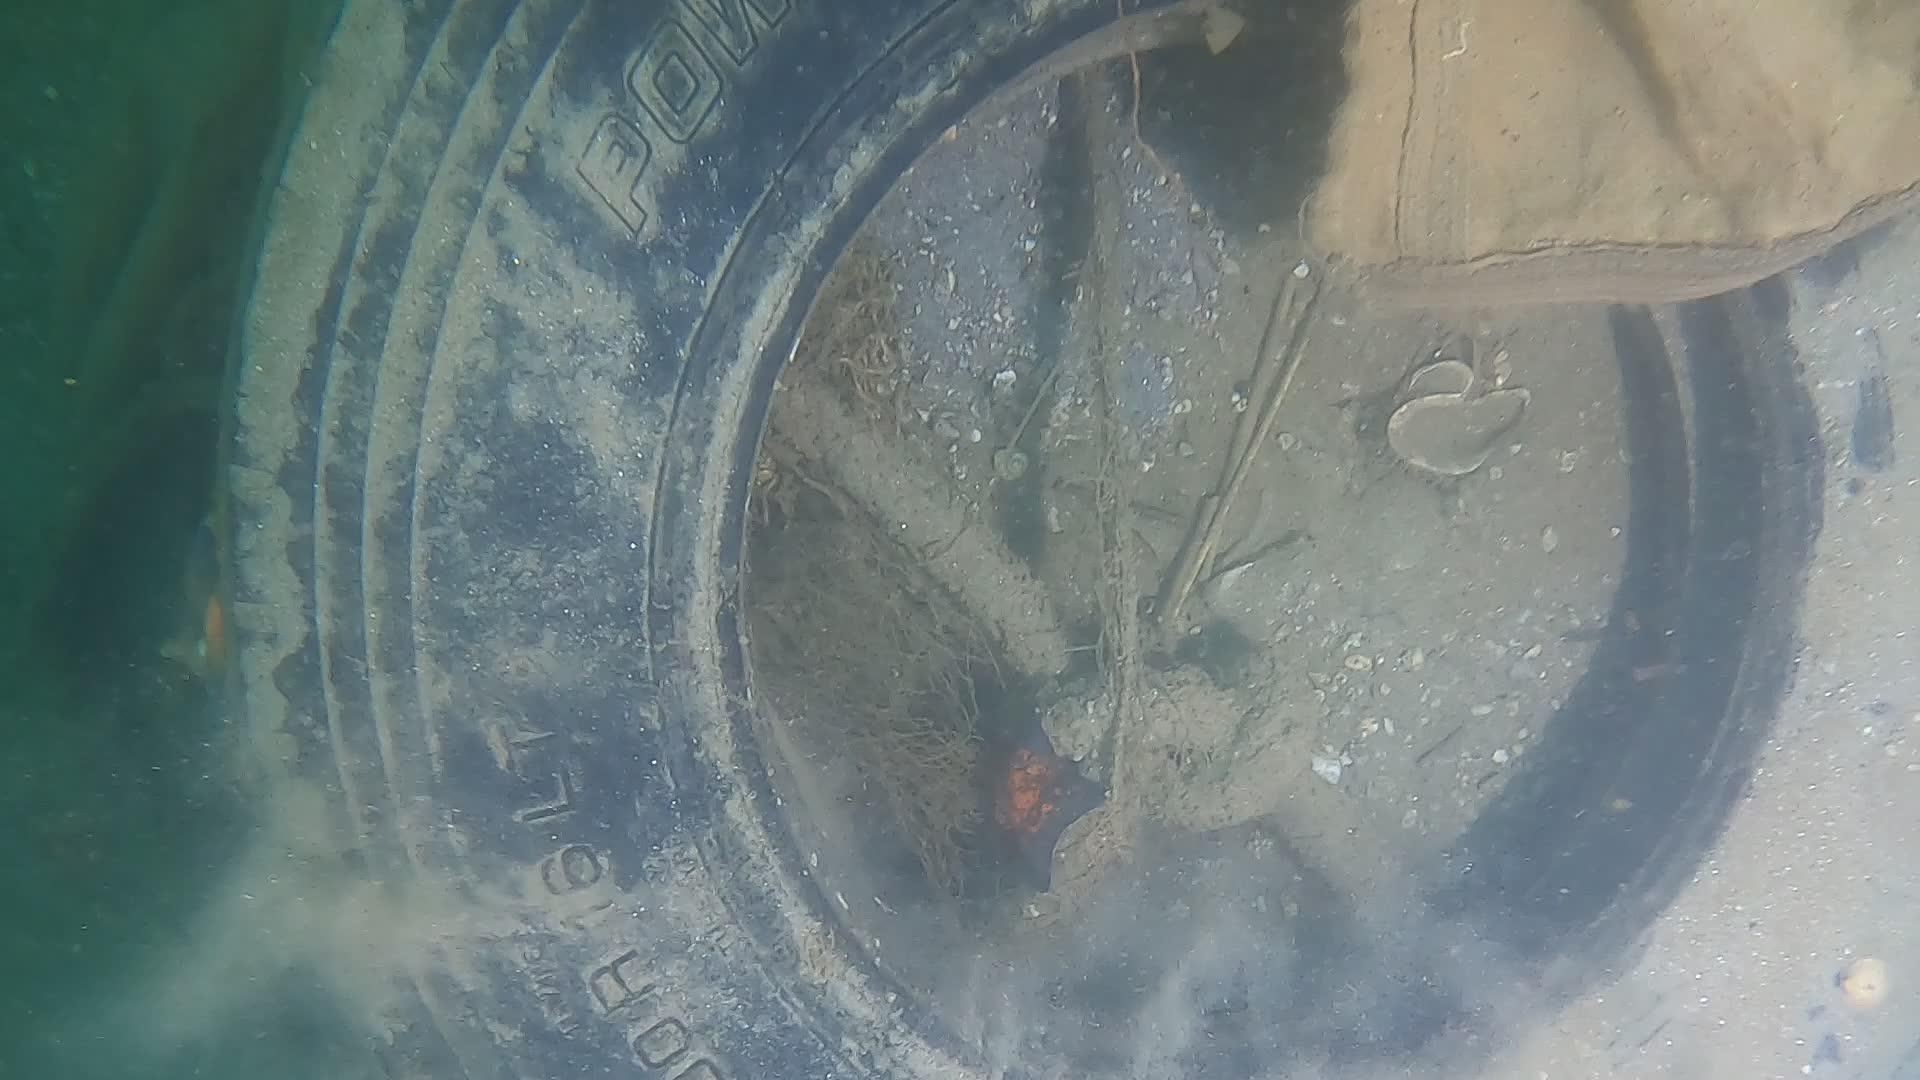tire: (210, 0, 1902, 1080)
